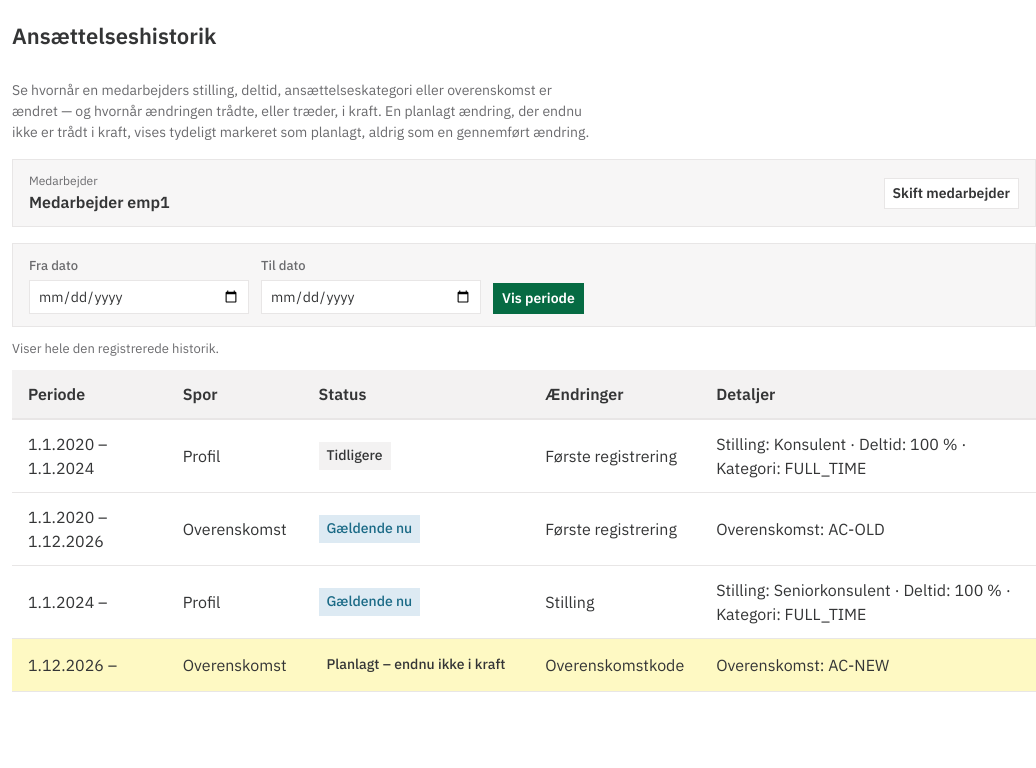
Test case: EmploymentHistoryPage — picking an employee › "Skift medarbejder" returns to the search panel
Expected: the text "Medarbejder emp1" is shown, [29,190,170,214]
Click the button "Skift medarbejder".
click(951, 193)  # box [884,178,1019,208]
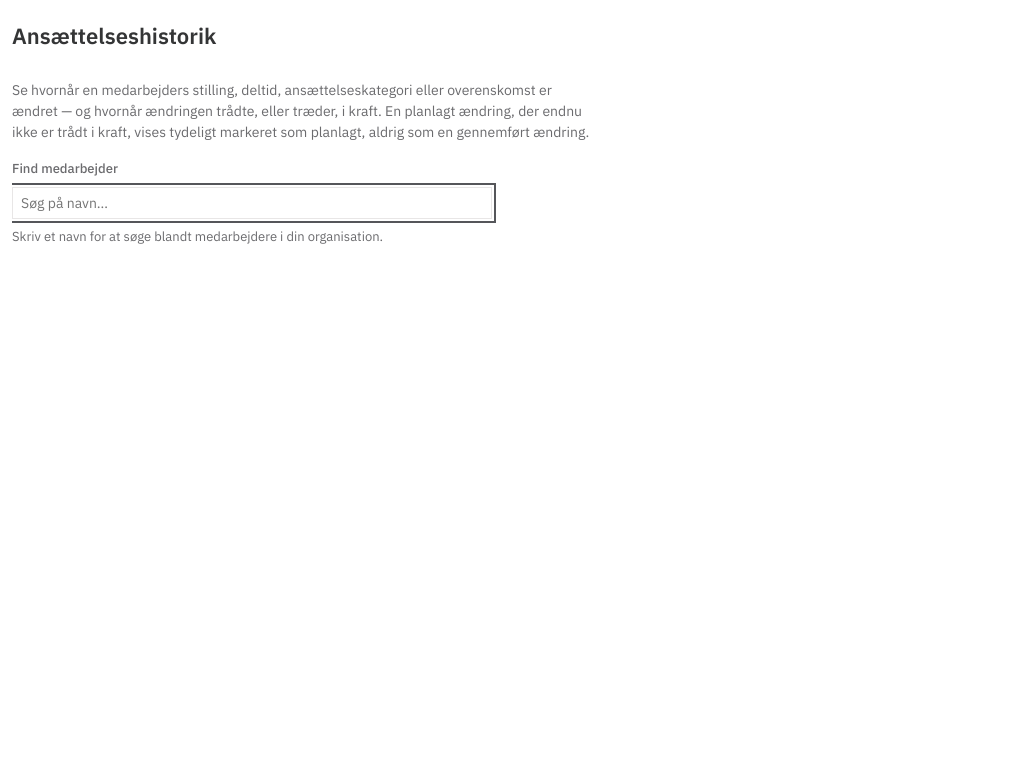
Expected: the element with test id "history-search-panel" is shown, [12,159,492,246]
